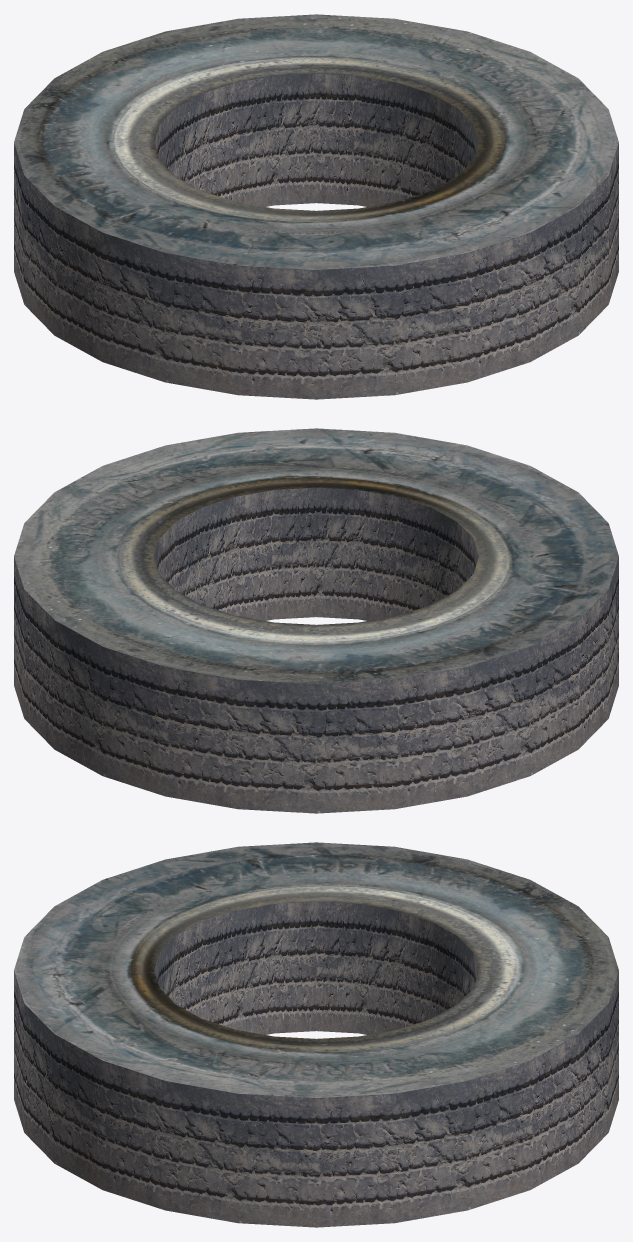
Rendered from wheel02-lod.fbx.
The picture shows the model from 3 angles, top to bottom: view 1: azimuth 30°, elevation 25°; view 2: azimuth 150°, elevation 25°; view 3: azimuth 270°, elevation 25°; orthographic projection.
Parts seen in each view (by area): view 1: Mesh; view 2: Mesh; view 3: Mesh.
Part boxes in pixels (x1,y1,x2,y2): Mesh: [14, 14, 618, 399]; Mesh: [14, 428, 618, 813]; Mesh: [14, 842, 618, 1227].
Bounding box in the file's own units: 129 × 30.47 × 129.
